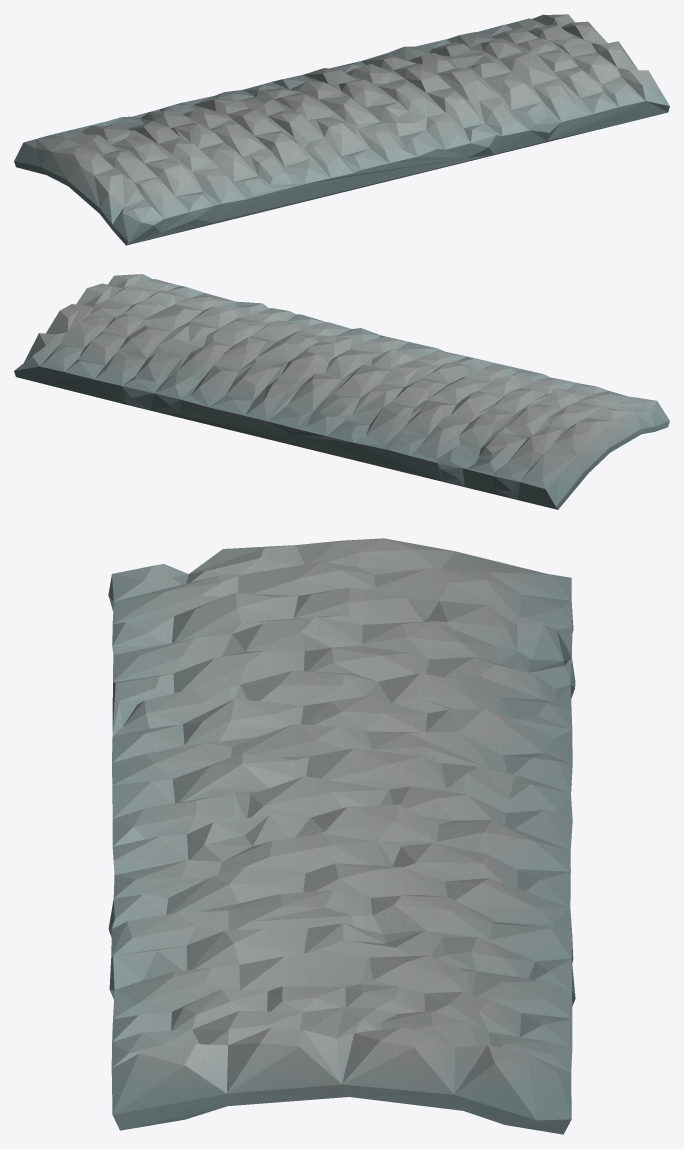
The model's file is Tile.FBX.
3 views of the same model, one above another, from view 1: azimuth 30°, elevation 25°; view 2: azimuth 150°, elevation 25°; view 3: azimuth 270°, elevation 25° (orthographic). The views are drawn at different scales.
Visible parts, largest first — view 1: Group30797; view 2: Group30797; view 3: Group30797.
Boxes of the visible parts, x1,y1,x2,y2 form: Group30797: (14, 14, 669, 245); Group30797: (14, 274, 669, 509); Group30797: (108, 538, 575, 1134).
Bounding box in the file's own units: 534 × 42.26 × 199.
